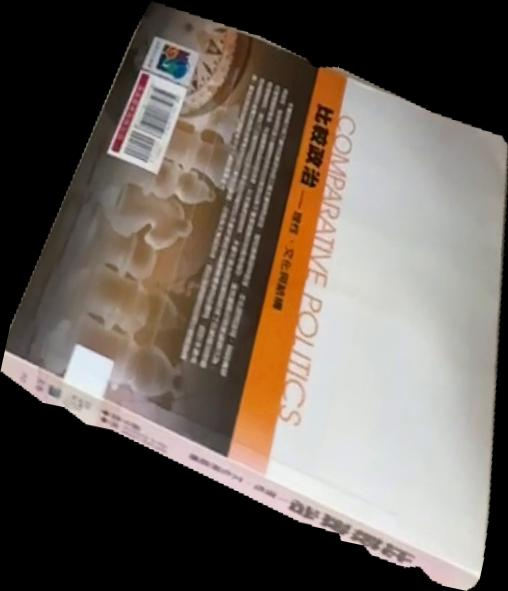flat: (1, 1, 508, 591)
